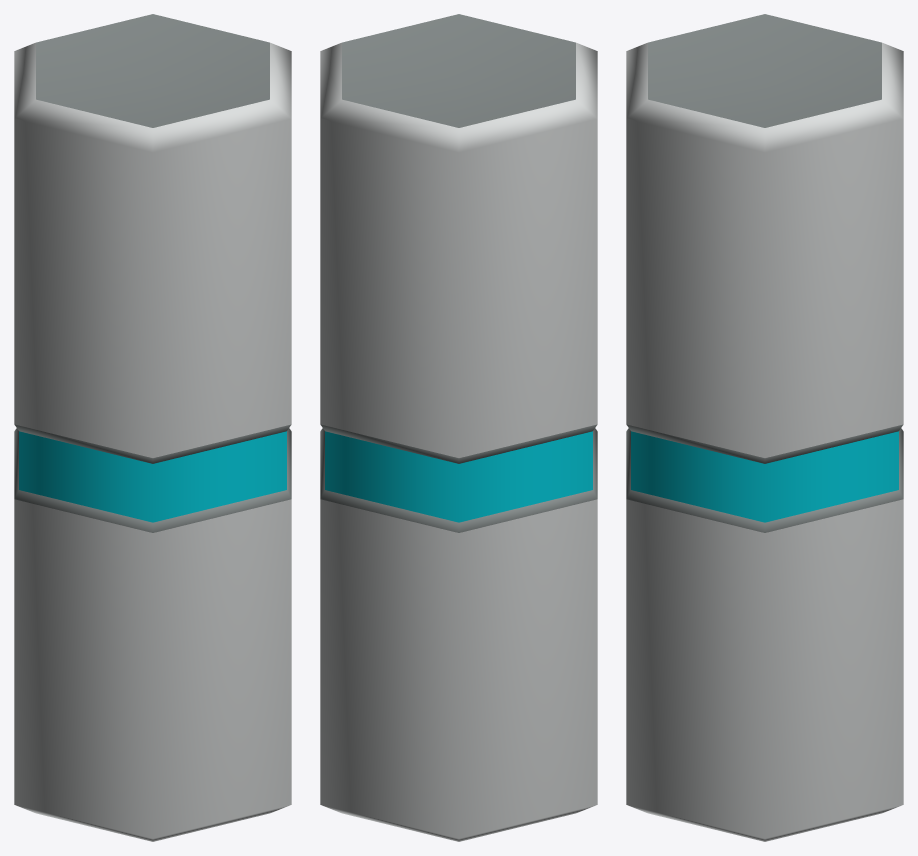
Rendered from BarrelSmall.fbx.
3 renders of one model, left to right at view 1: azimuth 30°, elevation 25°; view 2: azimuth 150°, elevation 25°; view 3: azimuth 270°, elevation 25°, orthographic.
Parts seen in each view (by area): view 1: pCylinder18; view 2: pCylinder18; view 3: pCylinder18.
Boxes of the visible parts, left/top/right/bottom form: pCylinder18: left=14, top=14, right=291, bottom=841; pCylinder18: left=320, top=14, right=597, bottom=841; pCylinder18: left=626, top=14, right=903, bottom=841.
Bounding box in the file's own units: 0.1929 × 0.4743 × 0.1671.
